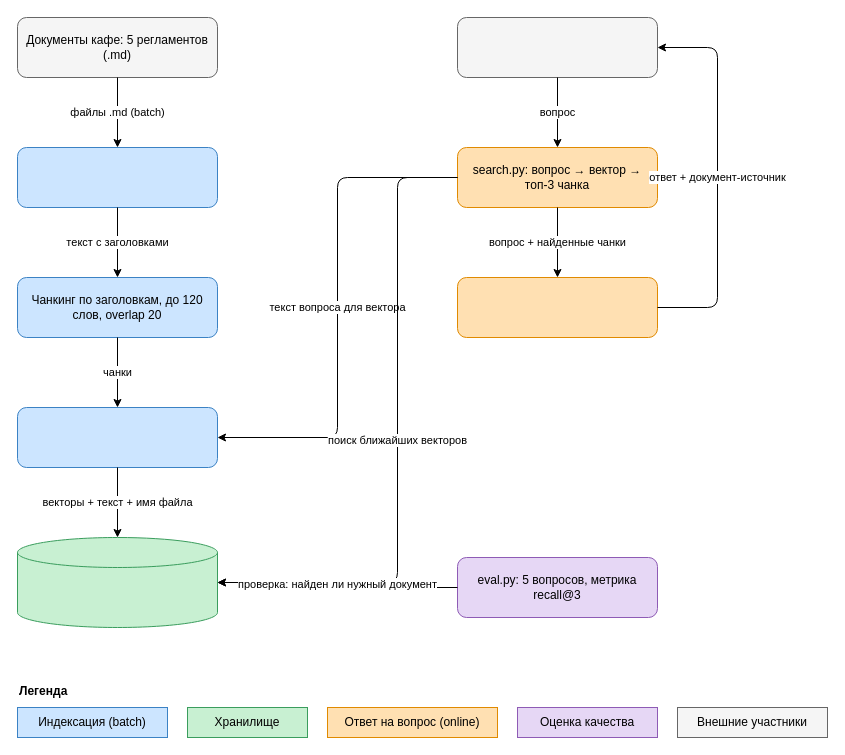
The diagram is 845 pixels wide and 755 high, and some of its shapes have lost their labels. The box of each missing label's shape, as (x1, y1, x2, y2) in pixels:
ingest.py: чтение файлов, sha256: (16, 146, 218, 208)
Qdrant: коллекция regulations, индекс HNSW: (16, 536, 218, 628)
Генерация: qwen2.5 (Ollama), ответ только по чанкам: (456, 276, 658, 338)
Сотрудник кафе: вопрос: (456, 16, 658, 78)
Эмбеддинг: bge-m3 (Ollama), вектор 1024: (16, 406, 218, 468)
